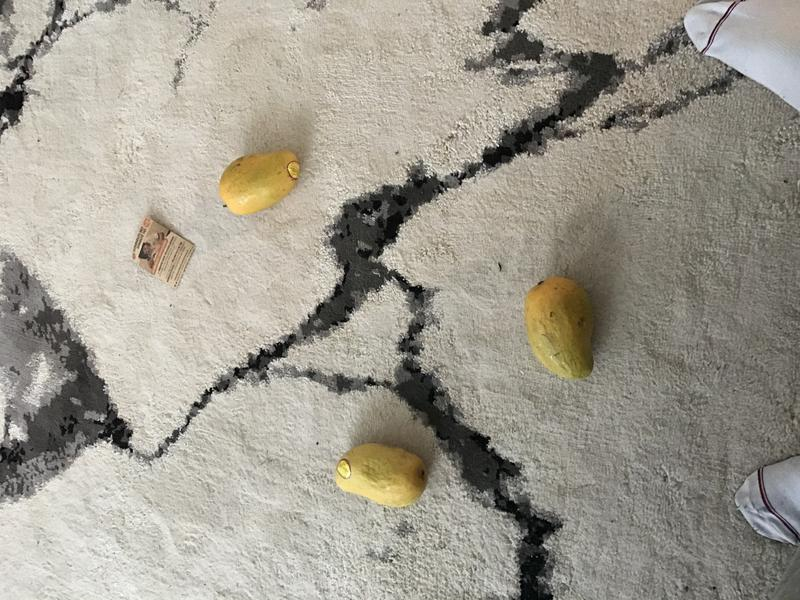w: (520, 269, 603, 392), (329, 425, 431, 519), (210, 144, 308, 223)
